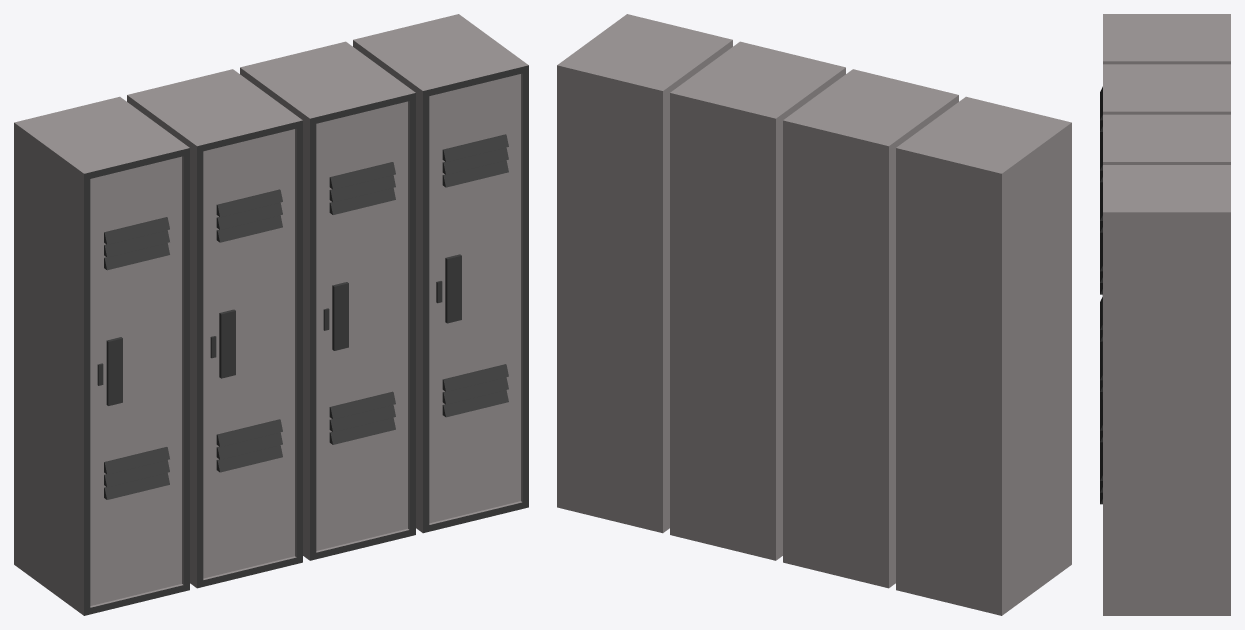
File: Locker.fbx
3 renders of one model, left to right at view 1: azimuth 30°, elevation 25°; view 2: azimuth 150°, elevation 25°; view 3: azimuth 270°, elevation 25°, orthographic. The views are drawn at different scales.
Visible parts, largest first — view 1: Locker.001; view 2: Locker.001; view 3: Locker.001.
Boxes of the visible parts, x1=… form: Locker.001: x1=14, y1=14, x2=528, y2=615; Locker.001: x1=557, y1=14, x2=1071, y2=615; Locker.001: x1=1100, y1=14, x2=1230, y2=615.
Size of the model in its own units: 289 by 274 by 80.54.
